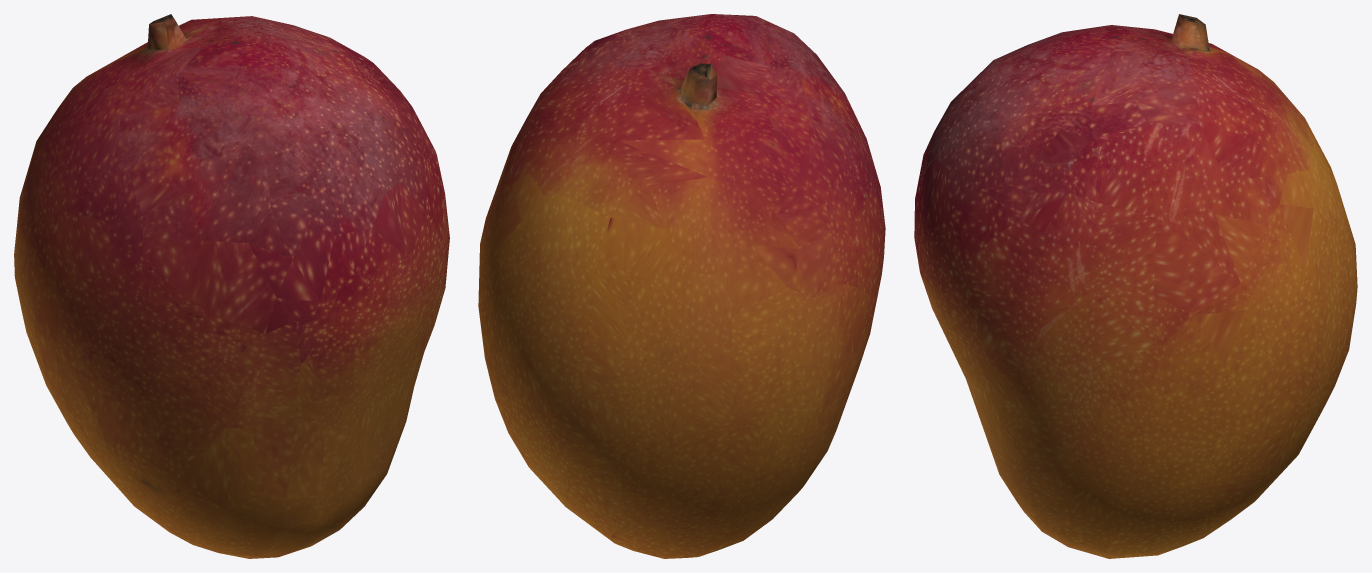
File: mango-v1.glb
3 views of the same model, side by side, from view 1: azimuth 30°, elevation 25°; view 2: azimuth 150°, elevation 25°; view 3: azimuth 270°, elevation 25° (orthographic). The views are drawn at different scales.
Visible parts, largest first — view 1: mango; view 2: mango; view 3: mango.
Boxes of the visible parts, x1,y1,x2,y2 form: mango: (14, 14, 449, 558); mango: (478, 14, 885, 558); mango: (914, 14, 1357, 558).
Bounding box in the file's own units: 0.0632 × 0.0874 × 0.0695.
1 material, 1 textured.
